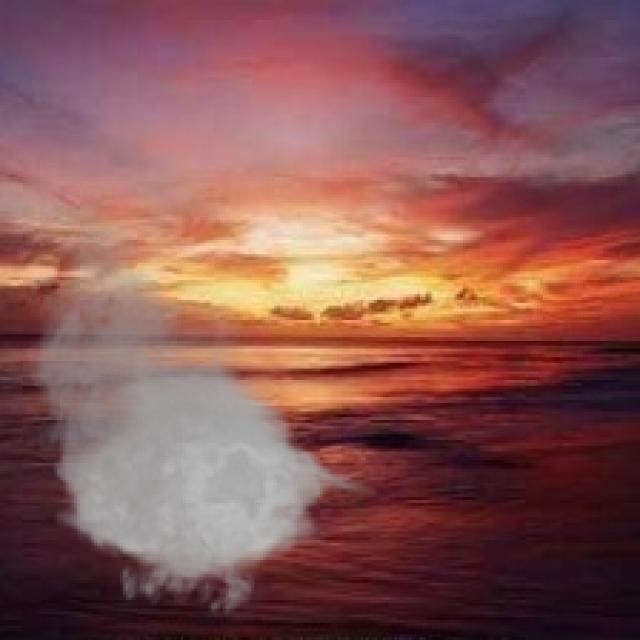smoke: (17, 217, 377, 629)
